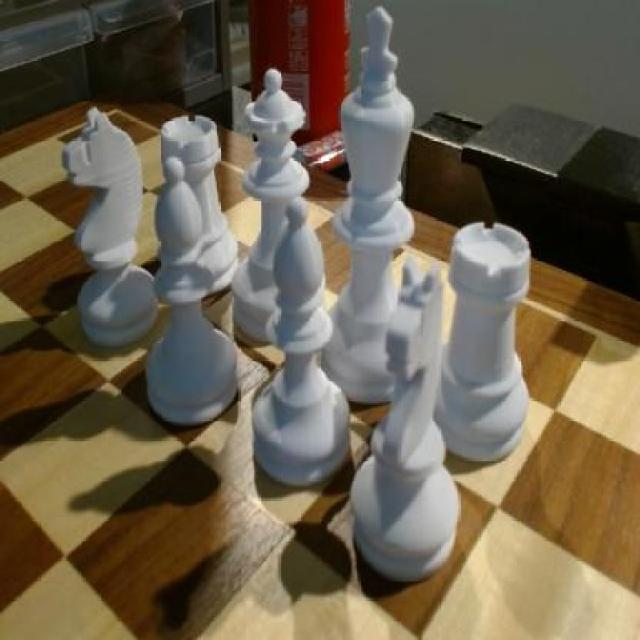black-rook: (252, 196, 356, 484), (142, 155, 240, 423)
white-bishop: (332, 6, 412, 398)
white-king: (352, 258, 460, 577), (60, 103, 162, 351)
white-pawn: (235, 72, 304, 342)
white-queen: (440, 222, 537, 463), (162, 110, 242, 294)
